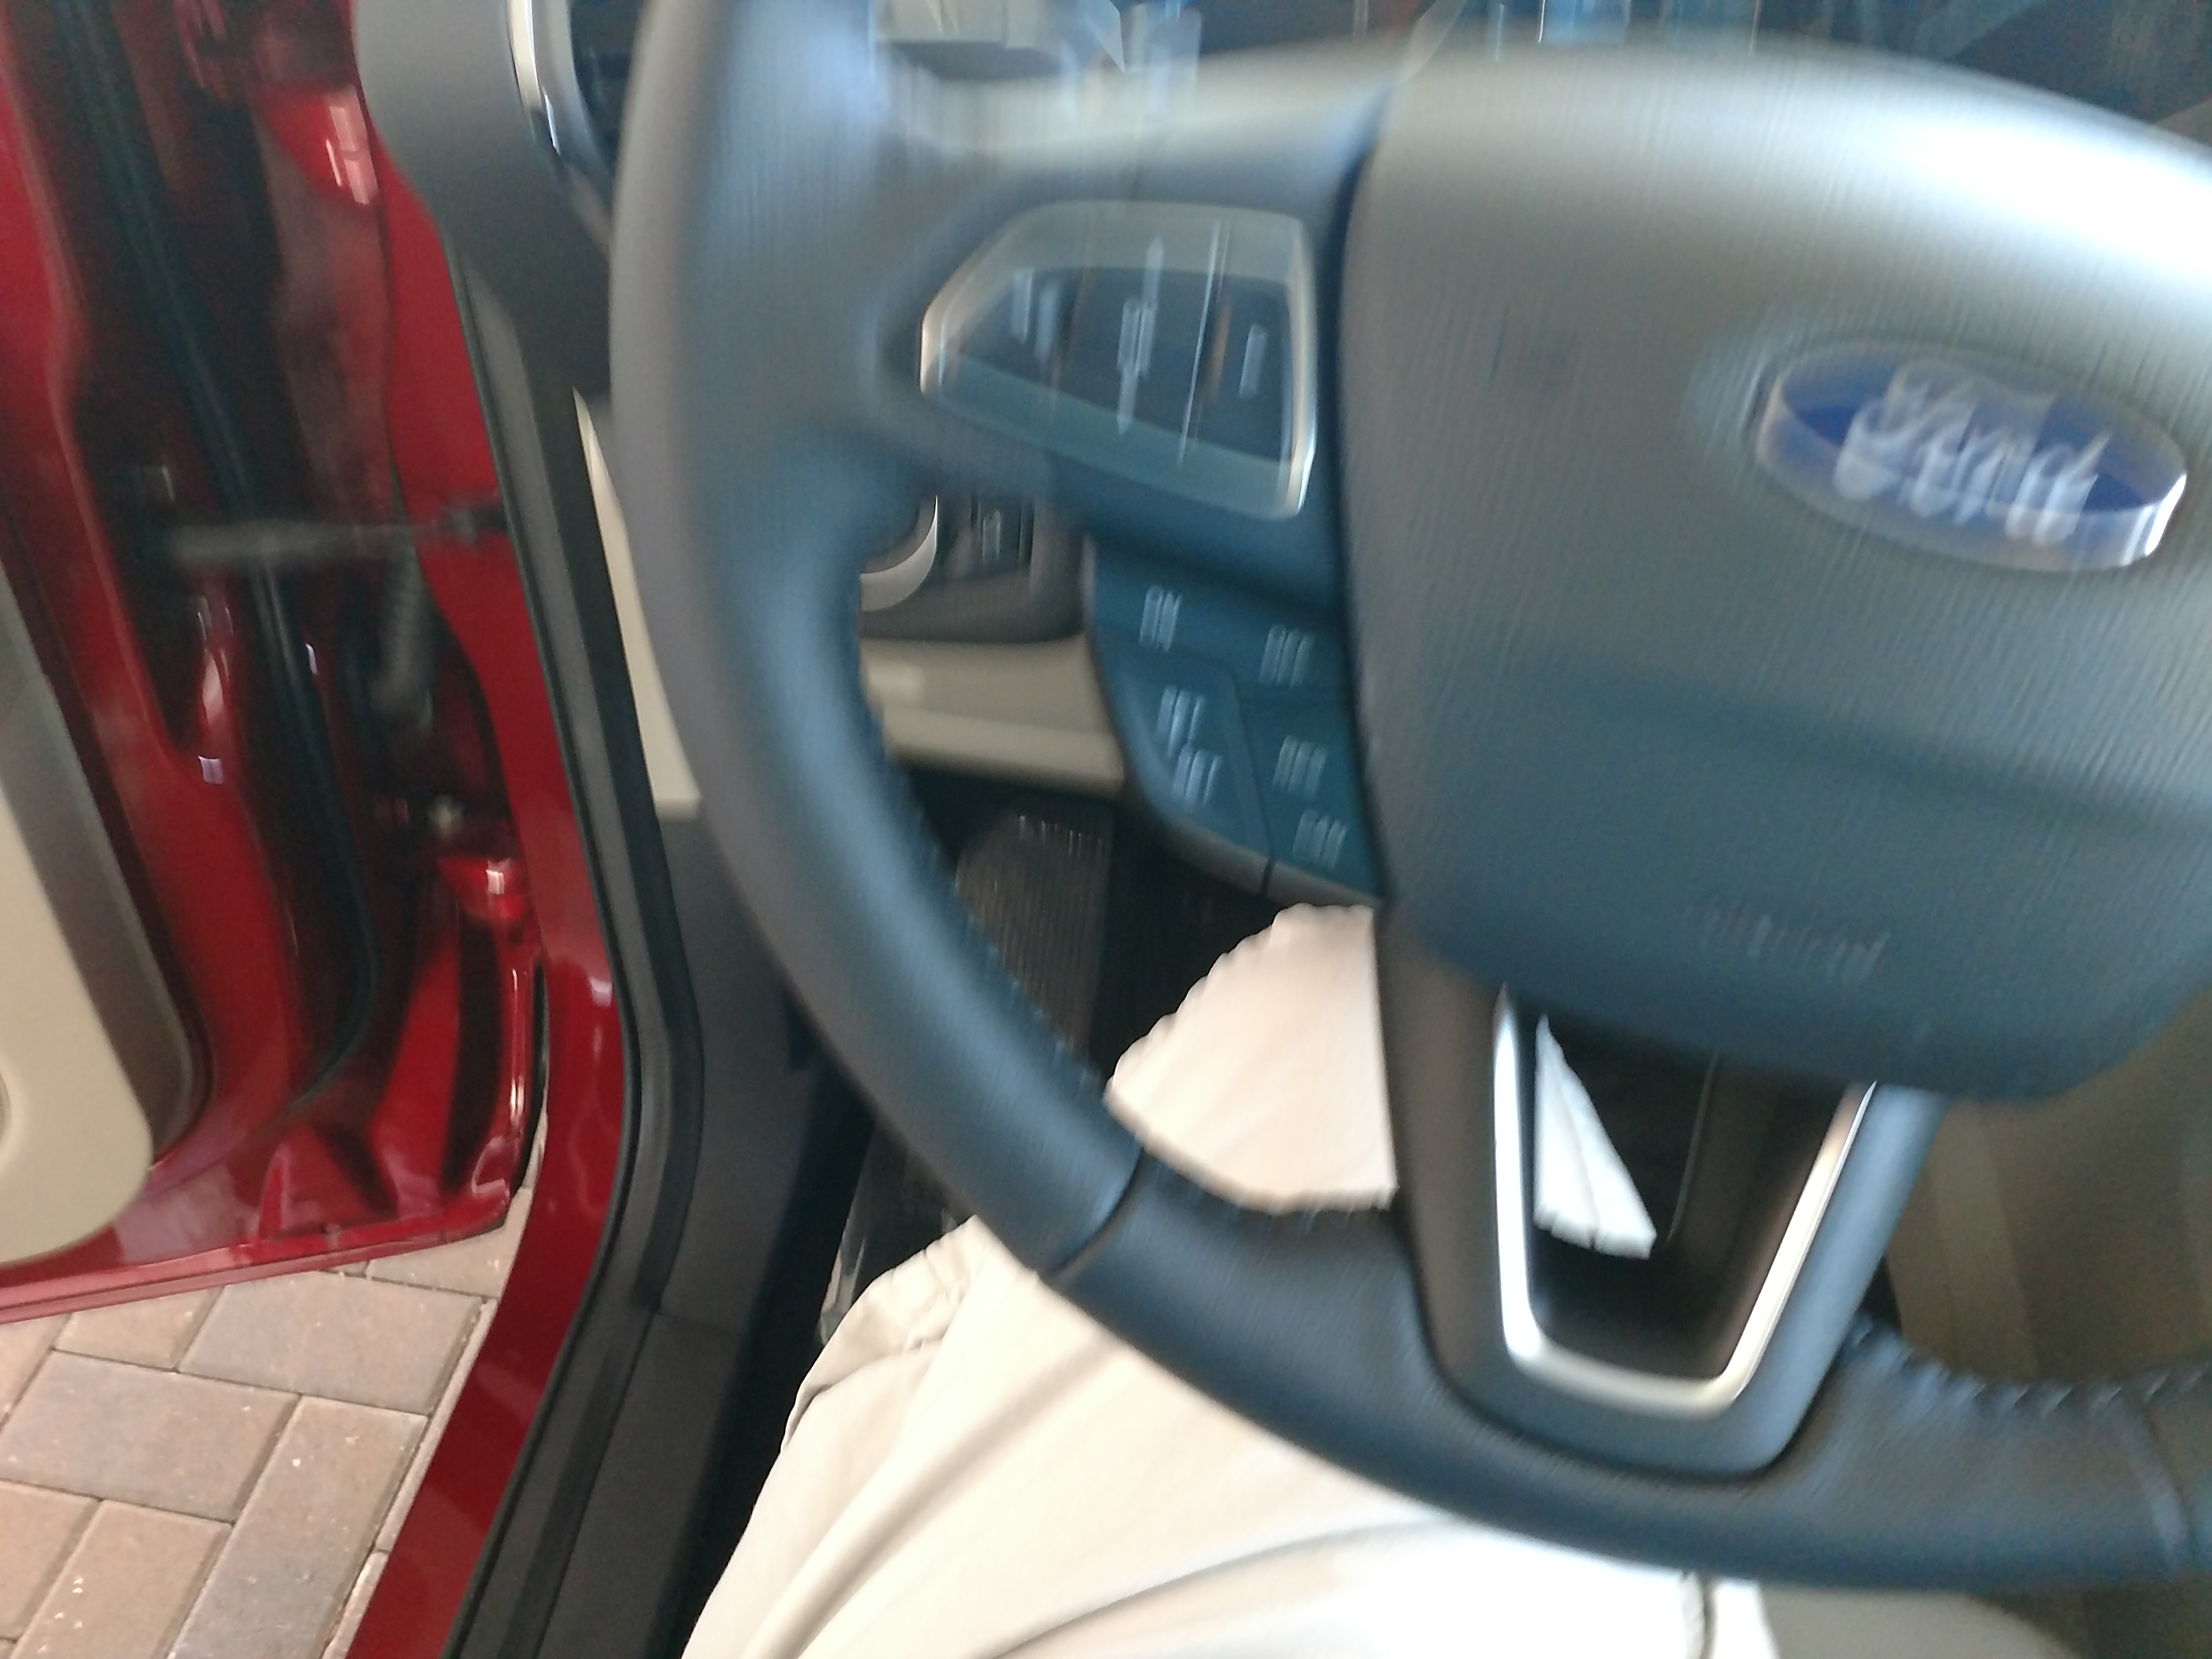Ford: (1747, 314, 2188, 591)
